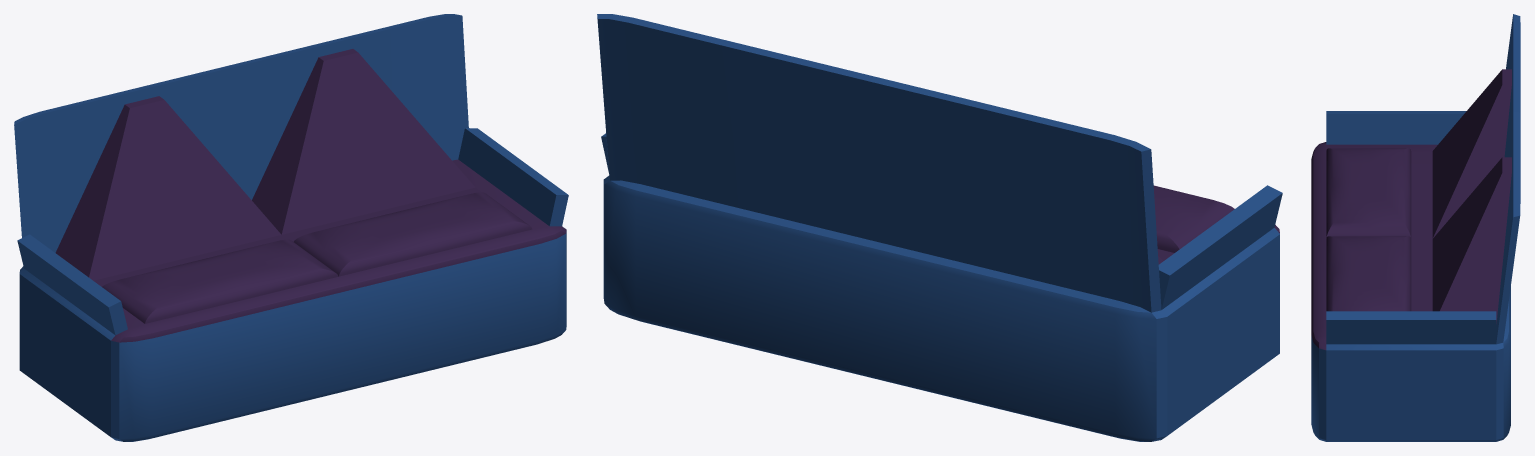
Rendered from sofa.fbx.
The picture shows the model from 3 angles, left to right: view 1: azimuth 30°, elevation 25°; view 2: azimuth 150°, elevation 25°; view 3: azimuth 270°, elevation 25°; orthographic projection. The views are drawn at different scales.
Visible parts, largest first — view 1: Cube; view 2: Cube; view 3: Cube.
Boxes of the visible parts, <box> form: Cube: <box>14,14,568,441</box>; Cube: <box>597,14,1282,441</box>; Cube: <box>1311,14,1520,441</box>.
Size of the model in its own units: 601 by 312 by 254.
